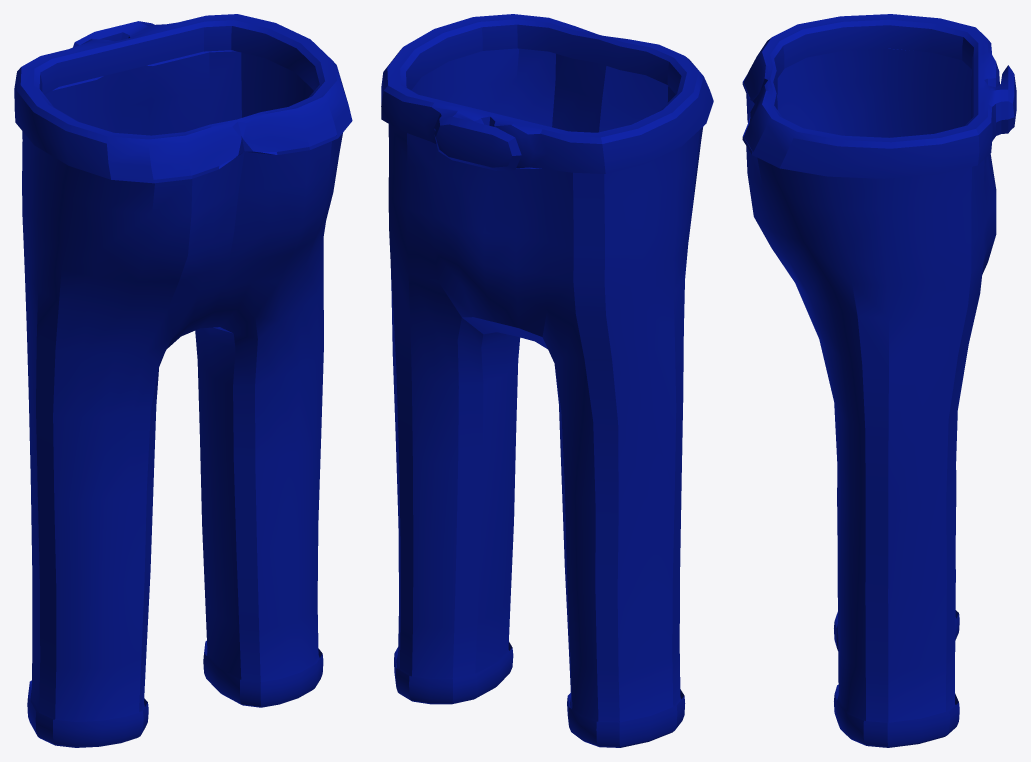
File: blue shorts.fbx
The picture shows the model from 3 angles, left to right: view 1: azimuth 30°, elevation 25°; view 2: azimuth 150°, elevation 25°; view 3: azimuth 270°, elevation 25°; orthographic projection. The views are drawn at different scales.
Visible parts, largest first — view 1: menino_polySurface18_menino_polySurface45_menino_polySurface; view 2: menino_polySurface18_menino_polySurface45_menino_polySurface; view 3: menino_polySurface18_menino_polySurface45_menino_polySurface.
Boxes of the visible parts, bbox=[...] form: menino_polySurface18_menino_polySurface45_menino_polySurface: bbox=[14, 14, 352, 747]; menino_polySurface18_menino_polySurface45_menino_polySurface: bbox=[381, 14, 713, 747]; menino_polySurface18_menino_polySurface45_menino_polySurface: bbox=[742, 14, 1016, 747].
Size of the model in its own units: 24.32 by 51.35 by 21.01.
